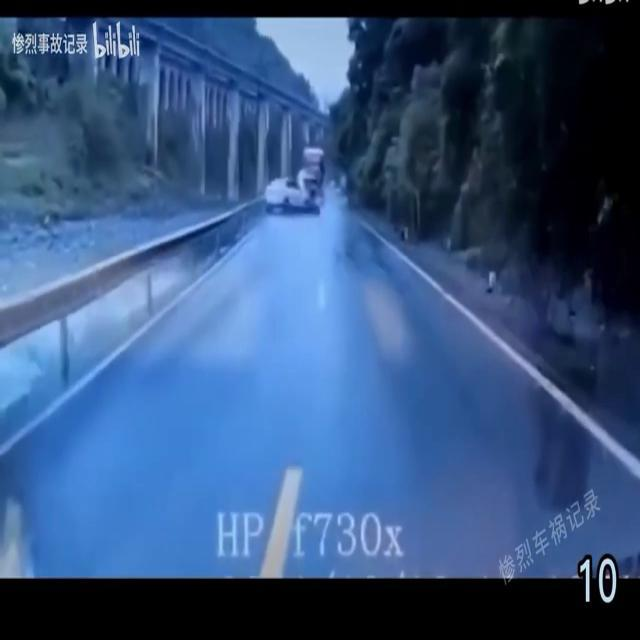multiple_accident: (242, 138, 353, 239)
